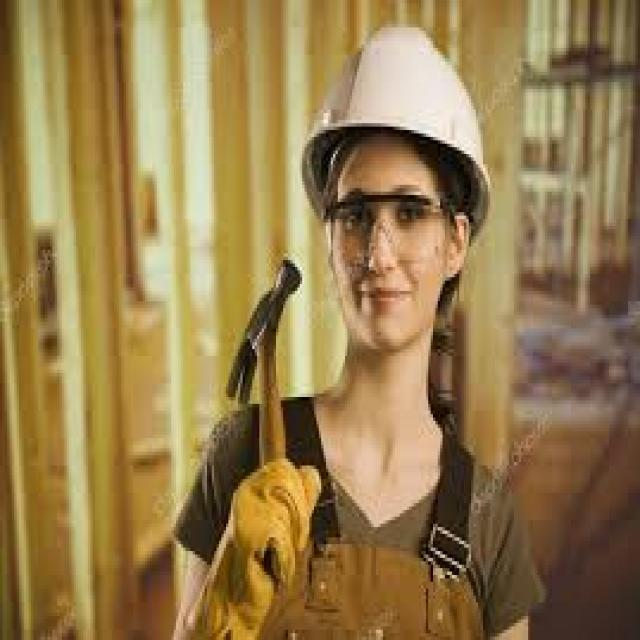hammer: (221, 250, 312, 541)
